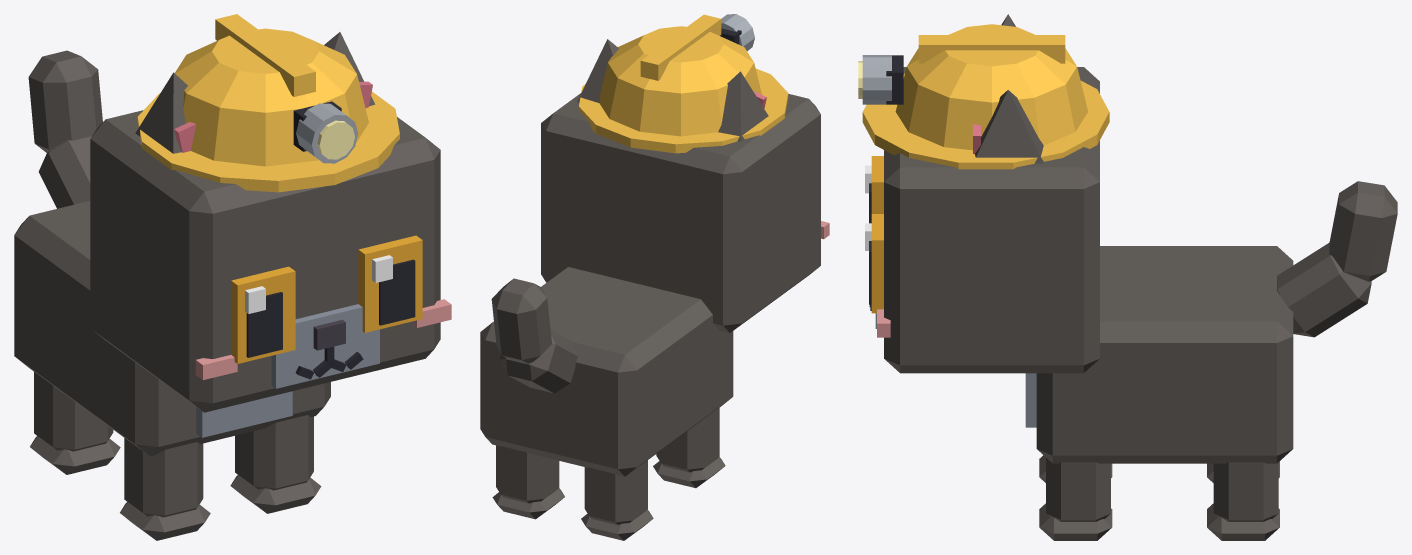
The model's file is CatCafe_Cat_Lantern.glb.
The picture shows the model from 3 angles, left to right: view 1: azimuth 30°, elevation 25°; view 2: azimuth 150°, elevation 25°; view 3: azimuth 270°, elevation 25°; orthographic projection. The views are drawn at different scales.
Visible parts, largest first — view 1: CatCafe_Cat_Lantern_Head, CatCafe_Cat_Lantern_Prop, CatCafe_Cat_Lantern_Body, CatCafe_Cat_Lantern_Tail, CatCafe_Cat_Lantern_LegF2, CatCafe_Cat_Lantern_LegF1, CatCafe_Cat_Lantern_Eye2, CatCafe_Cat_Lantern_Eye1, CatCafe_Cat_Lantern_LegB2, CatCafe_Cat_Lantern_EarR, CatCafe_Cat_Lantern_EarL; view 2: CatCafe_Cat_Lantern_Head, CatCafe_Cat_Lantern_Body, CatCafe_Cat_Lantern_Prop, CatCafe_Cat_Lantern_Tail, CatCafe_Cat_Lantern_LegB2, CatCafe_Cat_Lantern_LegB1, CatCafe_Cat_Lantern_LegF2, CatCafe_Cat_Lantern_EarR, CatCafe_Cat_Lantern_EarL; view 3: CatCafe_Cat_Lantern_Body, CatCafe_Cat_Lantern_Head, CatCafe_Cat_Lantern_Prop, CatCafe_Cat_Lantern_Tail, CatCafe_Cat_Lantern_LegB1, CatCafe_Cat_Lantern_LegF1, CatCafe_Cat_Lantern_EarL, CatCafe_Cat_Lantern_Eye1, CatCafe_Cat_Lantern_Eye2.
Boxes of the visible parts, box(x1,y1,x2,y2) form: CatCafe_Cat_Lantern_Head: box(90, 110, 451, 412); CatCafe_Cat_Lantern_Prop: box(137, 14, 399, 192); CatCafe_Cat_Lantern_Body: box(14, 201, 330, 456); CatCafe_Cat_Lantern_Tail: box(28, 50, 102, 208); CatCafe_Cat_Lantern_LegF2: box(120, 438, 210, 540); CatCafe_Cat_Lantern_LegF1: box(230, 415, 321, 513); CatCafe_Cat_Lantern_Eye2: box(231, 266, 295, 363); CatCafe_Cat_Lantern_Eye1: box(358, 235, 422, 332); CatCafe_Cat_Lantern_LegB2: box(30, 372, 120, 474); CatCafe_Cat_Lantern_EarR: box(135, 72, 196, 153); CatCafe_Cat_Lantern_EarL: box(324, 32, 375, 108); CatCafe_Cat_Lantern_Head: box(541, 93, 829, 332); CatCafe_Cat_Lantern_Body: box(480, 267, 733, 476); CatCafe_Cat_Lantern_Prop: box(578, 14, 788, 153); CatCafe_Cat_Lantern_Tail: box(491, 278, 577, 393); CatCafe_Cat_Lantern_LegB2: box(581, 460, 653, 540); CatCafe_Cat_Lantern_LegB1: box(492, 445, 564, 519); CatCafe_Cat_Lantern_LegF2: box(653, 407, 725, 488); CatCafe_Cat_Lantern_EarR: box(718, 71, 768, 142); CatCafe_Cat_Lantern_EarL: box(577, 39, 618, 103); CatCafe_Cat_Lantern_Body: box(1025, 246, 1293, 463); CatCafe_Cat_Lantern_Head: box(869, 67, 1099, 373); CatCafe_Cat_Lantern_Prop: box(858, 24, 1109, 169); CatCafe_Cat_Lantern_Tail: box(1277, 181, 1397, 337); CatCafe_Cat_Lantern_LegB1: box(1207, 462, 1279, 540); CatCafe_Cat_Lantern_LegF1: box(1039, 458, 1112, 540); CatCafe_Cat_Lantern_EarL: box(973, 90, 1043, 163); CatCafe_Cat_Lantern_Eye1: box(865, 214, 883, 313); CatCafe_Cat_Lantern_Eye2: box(865, 156, 883, 223).
Size of the model in its own units: 1 by 1.91 by 2.
Materials: 1 (1 with a texture image).
